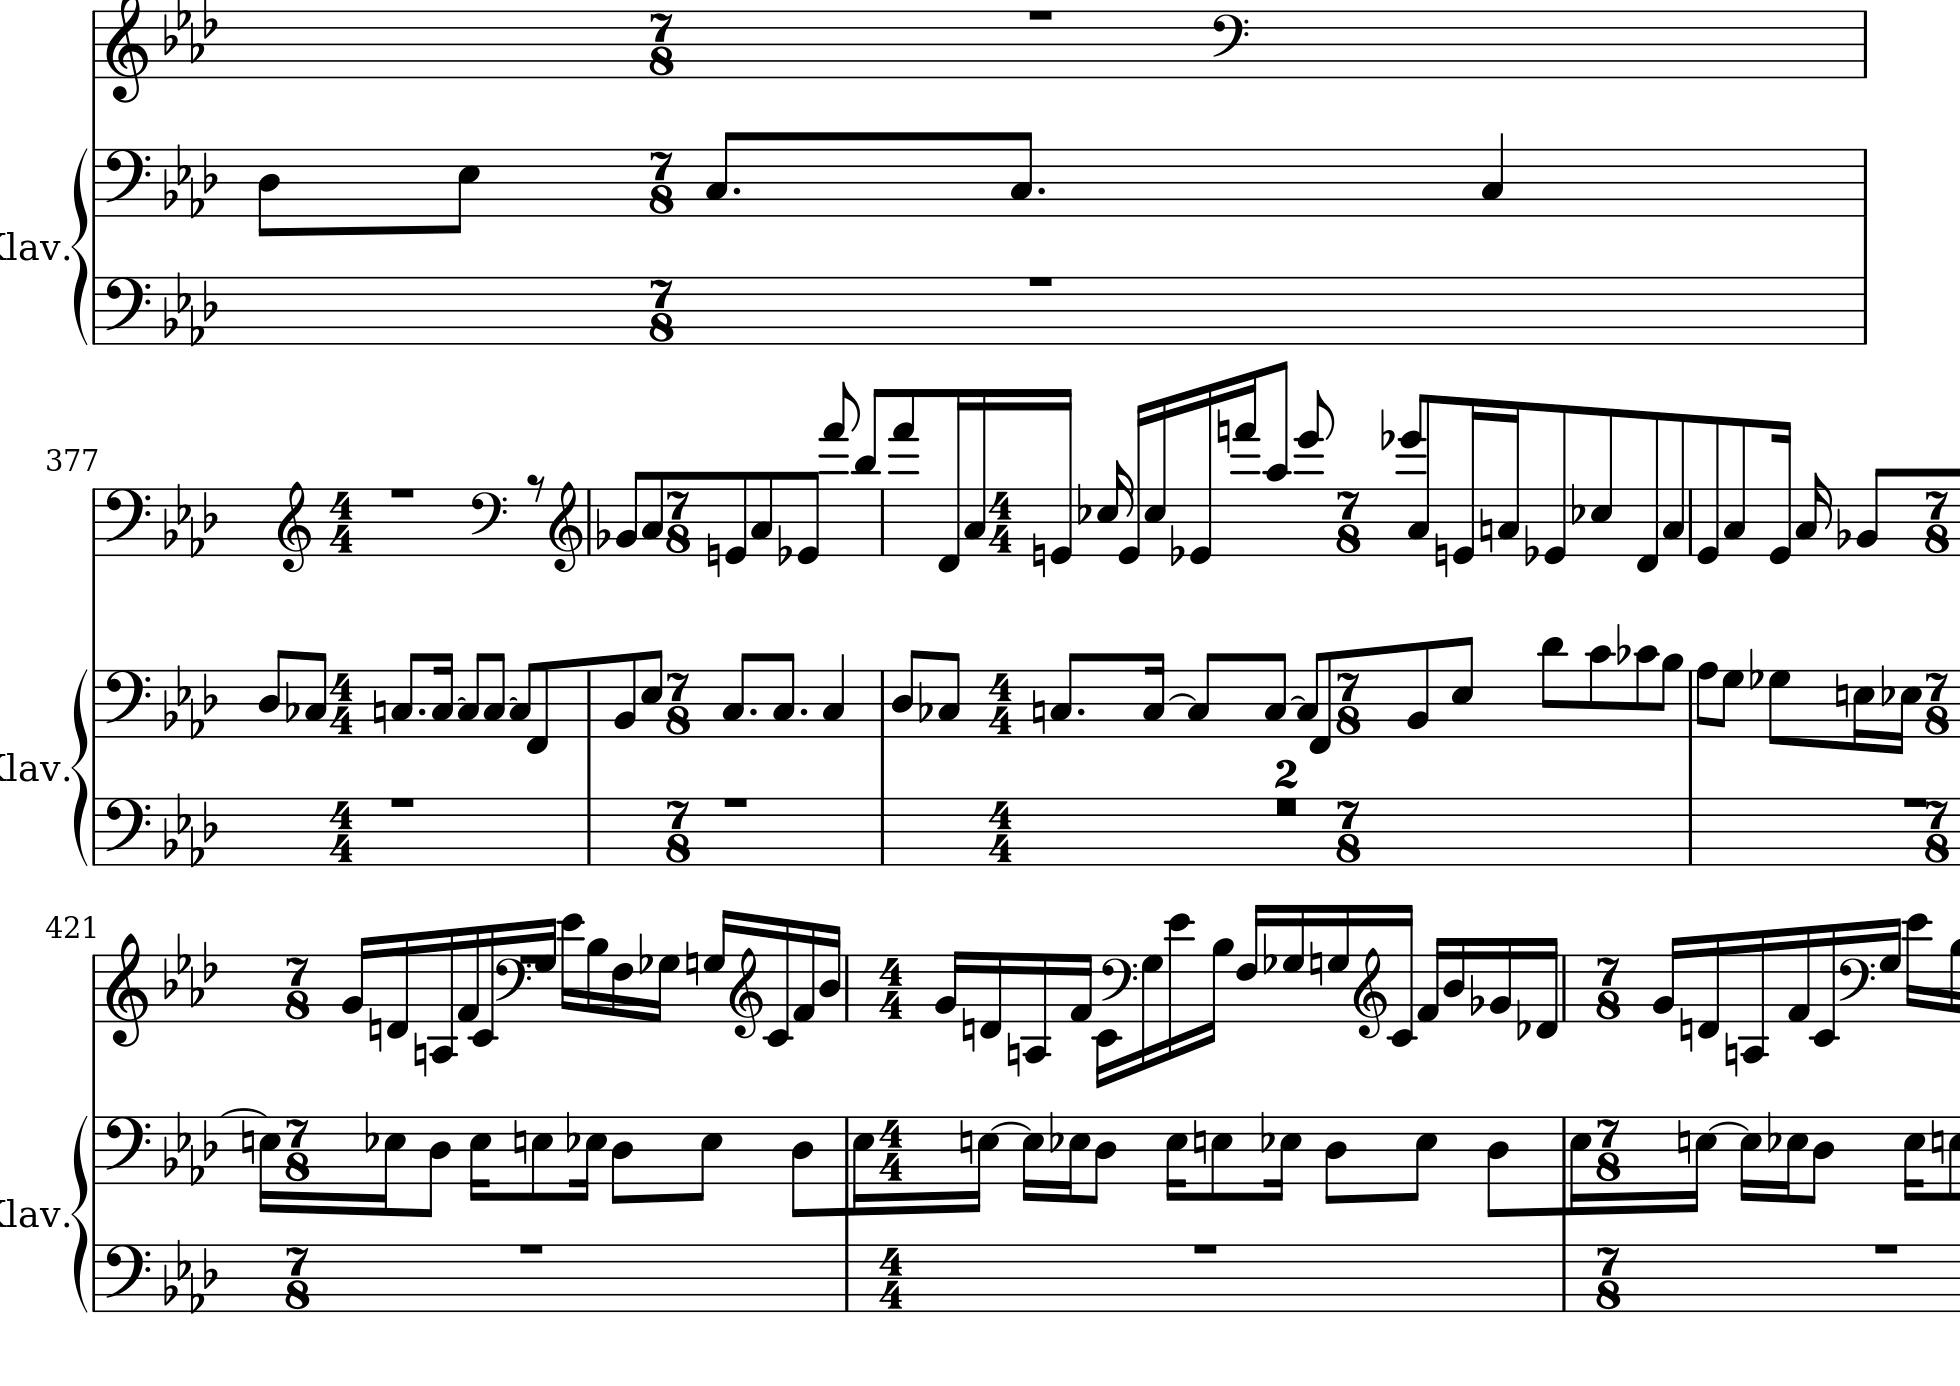1: (82, 913, 96, 940)
16_-1: (937, 388, 964, 573), (1390, 903, 1416, 1051), (1534, 934, 1561, 1041), (385, 928, 411, 1041), (454, 924, 481, 1024), (1698, 931, 1722, 1039), (979, 949, 1005, 1041)
16_-2: (1093, 952, 1125, 1092), (1810, 919, 1839, 1047), (765, 913, 790, 1050)
16_-4: (427, 925, 457, 1066), (1740, 928, 1770, 1066), (1023, 949, 1051, 1065)
16_0: (1188, 382, 1215, 565), (1453, 394, 1479, 564), (1765, 417, 1794, 568), (1050, 387, 1074, 565)
16_1: (1786, 922, 1812, 1024), (1417, 934, 1443, 1024), (1068, 951, 1095, 1026)
16_12: (1167, 909, 1194, 1054), (556, 910, 585, 1023), (1905, 912, 1932, 1023)
16_15: (1234, 372, 1257, 558)
16_2: (339, 934, 372, 1023), (1650, 934, 1683, 1023), (790, 919, 816, 1021), (931, 948, 964, 1024), (1488, 934, 1513, 1023)
16_3: (964, 387, 988, 558), (1497, 397, 1521, 559), (1795, 469, 1831, 556), (1140, 649, 1167, 736), (430, 649, 454, 739)
16_4: (817, 922, 841, 1021), (1443, 936, 1467, 1021)
16_5: (1096, 454, 1135, 559), (1146, 394, 1168, 559), (373, 1117, 406, 1216), (1686, 1114, 1717, 1213), (967, 1117, 999, 1213), (1266, 1117, 1302, 1201), (571, 1116, 606, 1201), (1060, 1114, 1090, 1203), (256, 1116, 280, 1216), (1893, 670, 1921, 754), (850, 1114, 874, 1213), (1569, 1117, 1593, 1215), (1021, 1114, 1045, 1203), (468, 1114, 492, 1201), (1902, 1114, 1926, 1201), (1164, 1116, 1188, 1201), (1740, 1114, 1762, 1203), (1852, 670, 1875, 751)
16_6: (1236, 904, 1270, 1023), (610, 952, 634, 1024)
16_7: (700, 904, 732, 1024), (1326, 903, 1351, 1023), (1282, 903, 1305, 1023), (1141, 952, 1165, 1063), (1878, 916, 1902, 1023), (648, 952, 679, 1024)
16_9: (1200, 936, 1233, 1045), (583, 936, 609, 1024), (1947, 934, 1960, 1024)
2: (63, 912, 79, 940)
3: (43, 445, 63, 472)
4: (985, 829, 1017, 865), (327, 520, 358, 553), (985, 796, 1017, 829), (327, 829, 355, 865), (876, 954, 906, 987), (876, 987, 906, 1020), (877, 1114, 906, 1149), (877, 1276, 906, 1311), (327, 487, 355, 520), (987, 670, 1015, 703), (327, 796, 355, 829), (988, 487, 1015, 522), (987, 703, 1015, 735), (877, 1243, 904, 1276), (988, 522, 1015, 553), (328, 703, 355, 735), (877, 1150, 904, 1182), (330, 670, 355, 703), (45, 913, 63, 940)
4_3: (1480, 130, 1506, 217), (820, 652, 846, 738)
7: (661, 799, 694, 834), (646, 277, 678, 310), (1333, 796, 1365, 829), (1921, 672, 1953, 705), (1593, 1117, 1626, 1147), (1332, 487, 1362, 520), (664, 490, 694, 522), (1593, 955, 1623, 987), (1923, 798, 1953, 829), (646, 148, 675, 181), (1923, 489, 1951, 520), (649, 10, 676, 43), (1335, 670, 1362, 703), (664, 669, 691, 700), (1596, 1245, 1623, 1276), (81, 445, 99, 472), (63, 445, 79, 472)
8: (643, 181, 676, 214), (1591, 1149, 1624, 1180), (661, 703, 693, 736), (1921, 706, 1953, 738), (1332, 832, 1363, 864), (1923, 832, 1953, 865), (1332, 703, 1362, 736), (646, 310, 676, 343), (1593, 1279, 1623, 1311), (666, 523, 696, 553), (283, 988, 310, 1021), (1596, 988, 1623, 1021), (648, 46, 675, 78), (1924, 522, 1951, 553), (666, 834, 691, 865), (1336, 523, 1360, 556)
8_-1: (1635, 409, 1662, 576), (528, 661, 552, 757)
8_0: (1543, 400, 1569, 567), (1696, 412, 1722, 565), (723, 468, 748, 565), (796, 469, 820, 565)
8_10: (1264, 358, 1291, 556), (1587, 643, 1614, 739), (1633, 642, 1659, 739)
8_11: (852, 385, 880, 558), (1539, 636, 1569, 739)
8_14: (1296, 390, 1335, 556)
8_15: (823, 379, 856, 559), (889, 387, 919, 556)
8_2: (1855, 466, 1887, 556), (613, 468, 643, 556), (456, 649, 484, 739), (1405, 640, 1431, 739), (610, 651, 637, 739)
8_3: (1722, 411, 1749, 559), (1663, 406, 1687, 558), (1186, 649, 1219, 739), (705, 129, 738, 217), (1296, 649, 1329, 738), (720, 649, 751, 739), (1050, 649, 1081, 738), (391, 649, 421, 738), (748, 469, 775, 561), (1009, 127, 1035, 219), (303, 649, 328, 739), (1263, 649, 1288, 739), (481, 649, 505, 739), (771, 649, 795, 739), (937, 649, 961, 739), (510, 661, 537, 741), (640, 468, 663, 558)
8_4: (420, 1114, 451, 1219), (256, 646, 286, 736), (789, 1114, 814, 1219), (1089, 1114, 1117, 1204), (1807, 1114, 1836, 1204), (889, 648, 918, 736), (1485, 1114, 1509, 1219), (256, 147, 280, 238), (610, 1114, 634, 1204), (1324, 1114, 1347, 1204)
8_5: (1588, 405, 1615, 559), (448, 145, 481, 235), (691, 1114, 723, 1203), (1407, 1114, 1438, 1203), (1450, 634, 1476, 739), (1779, 1114, 1807, 1204), (1209, 1114, 1234, 1203), (639, 646, 663, 738), (529, 1114, 553, 1203)
8_7: (1767, 669, 1794, 747), (1719, 667, 1744, 738)
8_8: (1695, 660, 1719, 739)
8_9: (1659, 652, 1684, 738)
A_F: (160, 661, 219, 739), (160, 142, 217, 219), (160, 270, 217, 346), (162, 931, 219, 1008), (160, 1110, 217, 1186), (162, 1237, 217, 1314), (162, 481, 217, 556), (162, 792, 217, 867), (162, 1, 217, 63)
Brace: (70, 666, 91, 865), (70, 145, 90, 346), (70, 1111, 90, 1312)
Cclef: (664, 493, 691, 559)
Fclef: (102, 484, 151, 558), (102, 1242, 151, 1312), (103, 666, 151, 738), (103, 145, 151, 216), (103, 795, 151, 865), (103, 274, 151, 343), (103, 1114, 151, 1183), (468, 484, 508, 556), (1836, 952, 1875, 1023), (1212, 7, 1249, 79)
Flat: (1377, 405, 1395, 451), (1569, 480, 1587, 526), (1261, 930, 1278, 976), (361, 1110, 378, 1156), (594, 504, 610, 549), (775, 523, 792, 568), (1075, 481, 1092, 526), (1168, 523, 1185, 568), (1522, 523, 1539, 568), (1834, 505, 1851, 550), (283, 678, 300, 723), (1614, 621, 1630, 666), (1468, 972, 1485, 1017), (564, 1108, 580, 1153), (1258, 1108, 1275, 1153), (1765, 1108, 1782, 1153), (1747, 646, 1764, 690), (637, 930, 652, 976), (1515, 997, 1530, 1042), (1048, 1108, 1063, 1153), (916, 679, 931, 723), (1879, 664, 1894, 708)
Gclef: (103, 930, 148, 1048), (105, 1, 148, 103), (547, 478, 583, 574), (276, 478, 312, 573), (1353, 945, 1389, 1039), (729, 945, 763, 1039)
Natural: (1215, 405, 1233, 454), (370, 687, 388, 736), (703, 531, 721, 579), (1722, 1030, 1740, 1078), (1030, 687, 1047, 736), (684, 937, 700, 987), (960, 1005, 976, 1054), (1308, 937, 1324, 987), (1030, 531, 1047, 579), (1833, 670, 1849, 718), (367, 1006, 384, 1054), (1005, 1030, 1021, 1078), (1678, 1006, 1695, 1054), (238, 1119, 255, 1167), (511, 1117, 528, 1165), (1434, 532, 1450, 579), (1929, 1116, 1944, 1165), (1479, 505, 1494, 553), (412, 1030, 427, 1078), (958, 1117, 973, 1165), (1192, 1117, 1207, 1165), (1677, 1117, 1692, 1165)
Rests1: (514, 1237, 547, 1258), (1189, 1237, 1221, 1258), (1870, 1237, 1902, 1258), (385, 481, 418, 501), (385, 792, 418, 811), (1026, 271, 1057, 291), (1026, 6, 1057, 24), (720, 793, 751, 811), (1899, 793, 1920, 808)
Rests8: (525, 469, 547, 502)
Single_barline: (838, 1116, 856, 1183), (1557, 1243, 1575, 1311), (85, 487, 102, 555), (1557, 954, 1573, 1021), (1857, 10, 1873, 76), (1857, 148, 1873, 214), (1857, 277, 1873, 343), (580, 670, 597, 736), (580, 798, 597, 864), (1557, 1116, 1573, 1182), (85, 952, 100, 1021), (874, 487, 889, 555), (874, 670, 889, 736), (1683, 670, 1698, 736), (1683, 796, 1698, 862), (874, 798, 889, 864), (88, 1114, 102, 1183), (840, 1246, 855, 1308), (87, 10, 100, 78), (582, 487, 595, 555), (88, 669, 102, 736), (88, 148, 102, 214), (841, 955, 855, 1021), (88, 796, 100, 862), (88, 1243, 100, 1309), (88, 277, 100, 342)
Slur: (220, 1104, 268, 1117), (990, 1120, 1032, 1132), (1710, 1119, 1749, 1131), (1167, 691, 1197, 700), (1288, 693, 1308, 700)
TimeSig: (987, 796, 1018, 864), (876, 955, 907, 1021), (327, 796, 357, 865), (327, 487, 357, 553), (877, 1243, 907, 1309), (987, 670, 1017, 733), (988, 489, 1017, 555), (879, 1117, 907, 1183), (1335, 487, 1362, 556), (1924, 487, 1951, 556), (664, 798, 691, 867), (283, 952, 310, 1021), (1335, 798, 1362, 865), (1596, 955, 1623, 1023), (330, 670, 357, 736), (649, 148, 675, 217), (666, 670, 691, 739), (1596, 1243, 1621, 1312), (1336, 669, 1362, 736), (649, 276, 673, 346), (1924, 670, 1950, 736), (649, 10, 673, 78), (285, 1245, 309, 1312), (1926, 802, 1950, 867)
dot: (1074, 705, 1086, 718), (730, 184, 742, 196), (415, 705, 427, 717), (798, 705, 808, 718), (1036, 184, 1047, 196), (748, 705, 757, 718)
